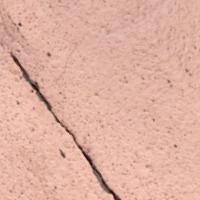crack: (10, 51, 127, 199)
